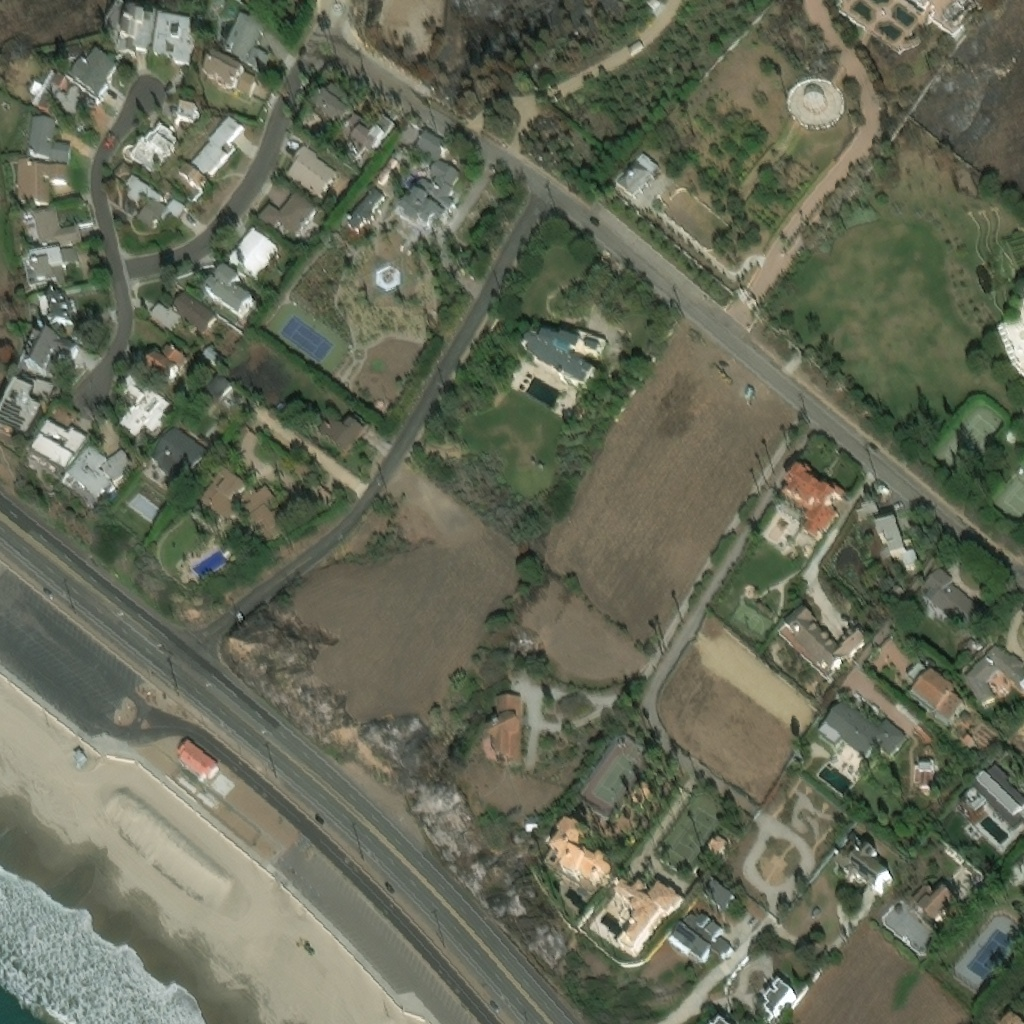0 no-damage: (775, 603, 865, 677), (197, 466, 283, 543), (816, 702, 909, 760), (781, 459, 845, 539), (611, 874, 682, 945), (396, 155, 460, 231), (60, 445, 134, 510), (521, 321, 594, 386), (542, 815, 610, 884), (916, 562, 983, 630), (960, 763, 1023, 835), (961, 639, 1023, 707), (905, 661, 965, 724), (121, 171, 185, 228), (0, 375, 55, 441), (115, 373, 170, 437), (26, 419, 86, 477), (148, 425, 206, 485), (667, 908, 733, 960), (785, 73, 845, 130), (188, 111, 240, 174), (282, 138, 337, 197), (253, 185, 314, 238), (199, 259, 252, 313), (126, 118, 179, 171), (99, 0, 154, 51), (65, 44, 119, 95), (224, 221, 275, 273), (221, 13, 268, 69), (482, 693, 520, 762), (22, 328, 77, 375), (201, 50, 257, 96), (337, 108, 392, 152), (15, 159, 65, 204), (24, 244, 78, 285), (873, 516, 917, 566), (909, 883, 958, 927), (308, 80, 355, 125), (31, 205, 80, 248), (612, 152, 657, 197), (151, 11, 191, 60), (315, 413, 365, 452), (27, 115, 69, 161), (168, 286, 214, 328), (175, 737, 218, 780), (848, 844, 891, 887), (141, 340, 185, 380), (344, 186, 384, 230), (37, 289, 75, 326), (764, 979, 796, 1018), (411, 127, 445, 160), (172, 158, 207, 188), (700, 878, 733, 908), (940, 0, 974, 28), (199, 371, 227, 399), (854, 496, 879, 521), (919, 760, 936, 790), (704, 830, 726, 853), (174, 97, 198, 118), (199, 342, 222, 363), (37, 93, 53, 109), (48, 72, 64, 87), (272, 398, 288, 412), (518, 637, 528, 648)
